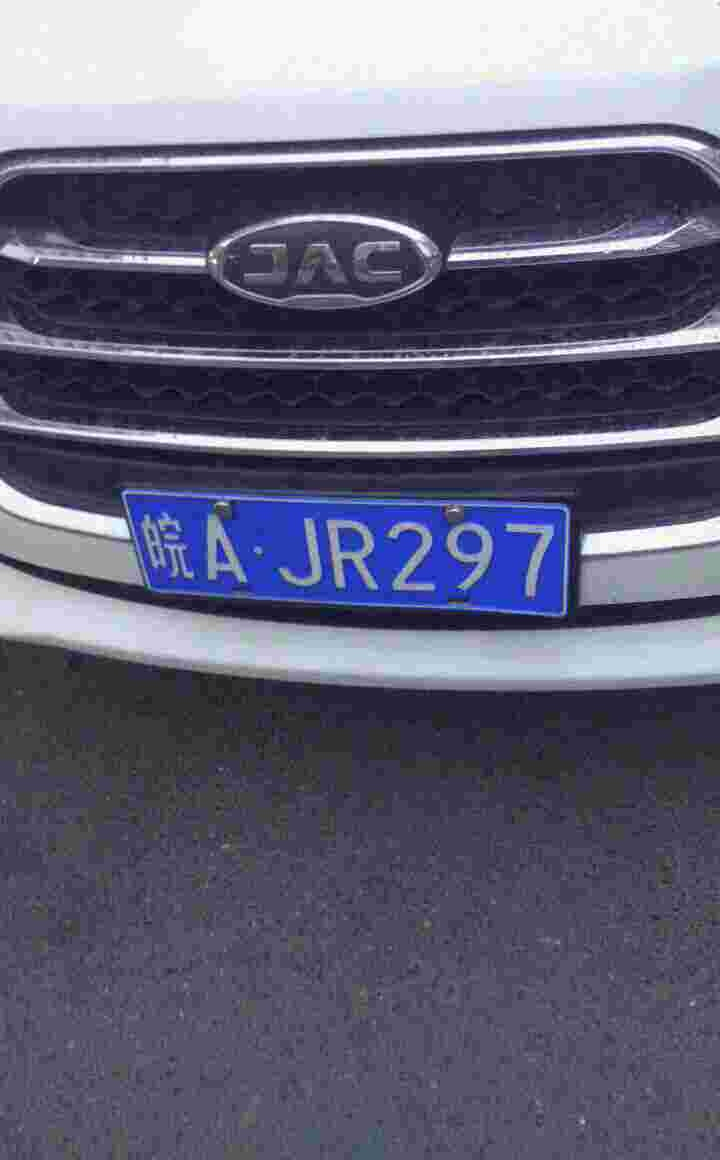license_plate: (124, 481, 574, 622)
